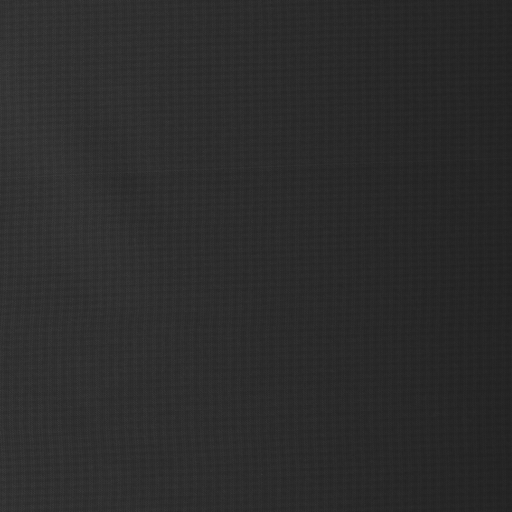defect: (1, 145, 512, 186)
